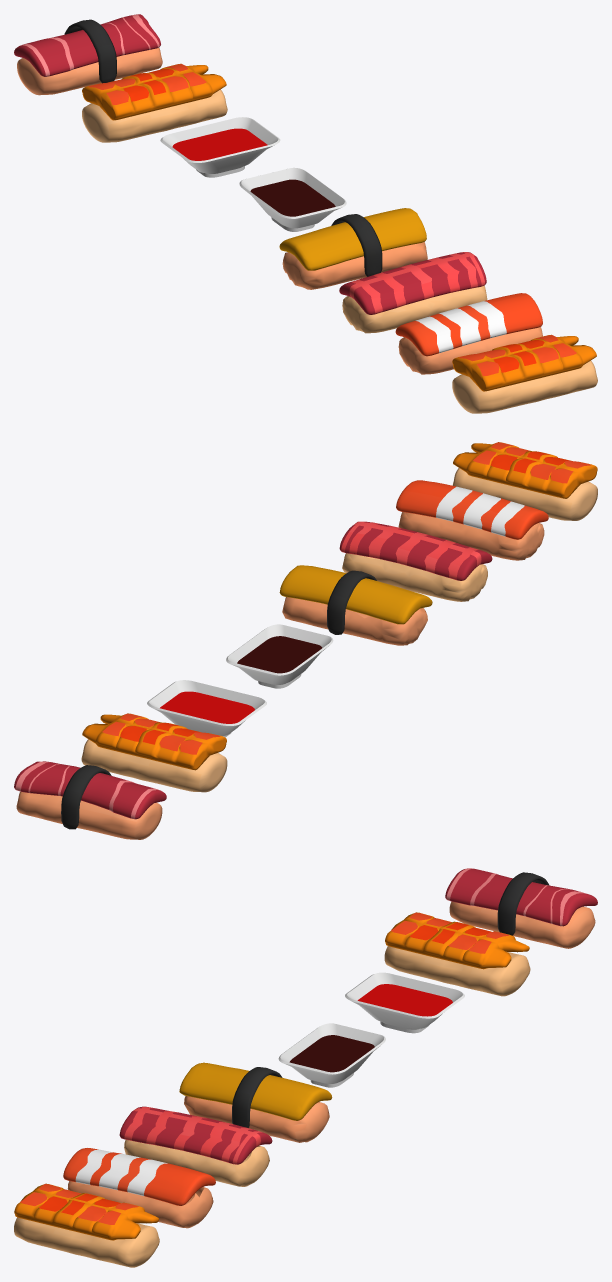
File: Longer Sushi.fbx
The picture shows the model from 3 angles, top to bottom: view 1: azimuth 30°, elevation 25°; view 2: azimuth 150°, elevation 25°; view 3: azimuth 330°, elevation 25°; orthographic projection.
Visible parts, largest first — view 1: Cube.003, Cube.007, Sushi 1.002, Sushi 1.004, Cube.085, Cube.005, Cube.002, Cube, Sushi 1.003, Sushi 1, Sushi 1.001, sAUCE.001 (+15 smaller); view 2: Cube.003, Sushi 1.002, Cube.007, Sushi 1, Cube.085, Cube.005, Sushi 1.003, Cube.002, Sushi.002, Sushi 1.001, Sushi 1.004, Cube (+15 smaller); view 3: Cube.003, Cube.007, Sushi 1.002, Sushi 1.004, Cube.085, Cube.002, Cube.005, Sushi 1.003, Cube, Sushi 1, Sushi 1.001, sAUCE.001 (+15 smaller).
Part boxes in pixels (x1,y1,x2,y2): Cube.003: (279,208,426,270); Cube.007: (14,14,160,76); Sushi 1.002: (82,89,227,142); Sushi 1.004: (452,360,597,413); Cube.085: (452,334,596,391); Cube.005: (82,63,226,120); Cube.002: (395,293,542,356); Cube: (339,252,486,314); Sushi 1.003: (17,48,162,95); Sushi 1: (342,285,487,333); Sushi 1.001: (282,242,427,289); sAUCE.001: (160,117,280,177); Cube.003: (279,565,432,624); Sushi 1.002: (81,739,227,792); Cube.007: (14,761,166,819); Sushi 1: (342,553,487,601); Cube.085: (453,442,597,498); Cube.005: (82,713,226,770); Sushi 1.003: (16,791,162,839); Cube.002: (396,480,548,539); Sushi.002: (398,512,544,560); Sushi 1.001: (282,597,427,645); Sushi 1.004: (452,468,597,520); Cube: (339,522,492,580); Cube.003: (179,1062,332,1120); Cube.007: (445,868,597,926); Sushi 1.002: (384,946,530,996); Sushi 1.004: (14,1217,159,1267); Cube.085: (14,1183,158,1240); Cube.002: (63,1148,215,1205); Cube.005: (385,912,529,969); Sushi 1.003: (449,901,595,948); Cube: (119,1106,272,1164); Sushi 1: (124,1140,269,1186); Sushi 1.001: (184,1096,329,1142); sAUCE.001: (345,972,464,1033).
Size of the model in its own units: 125 by 52.71 by 803.
Materials: 1 (1 with a texture image).
